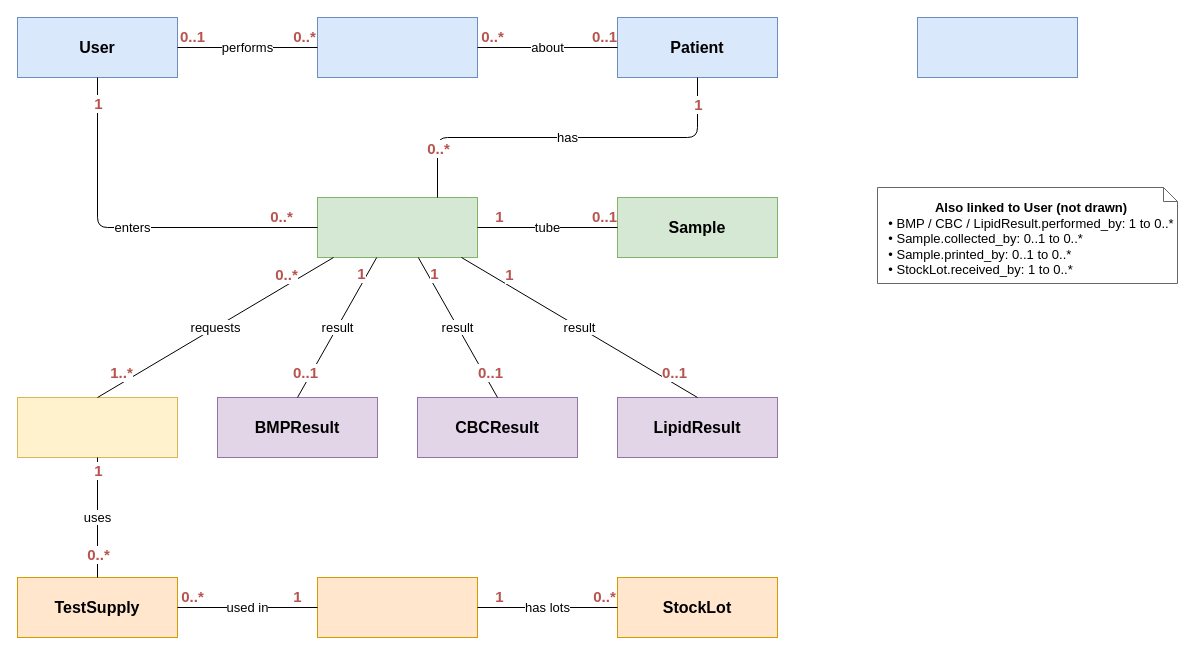
The diagram is 1195 pixels wide and 655 high, and some of its shapes have lost their labels. Each missing label, with the box of its shape:
ActivityLog: (316, 16, 478, 78)
LabInfo one row only: (916, 16, 1078, 78)
SupplyItem: (316, 576, 478, 638)
TestOrder: (316, 196, 478, 258)
TestType: (16, 396, 178, 458)
